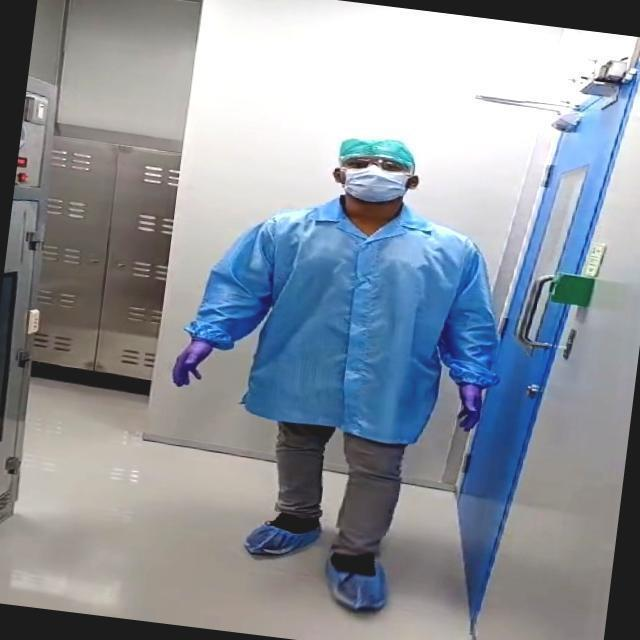apron: (168, 334, 208, 390), (450, 384, 490, 435)
